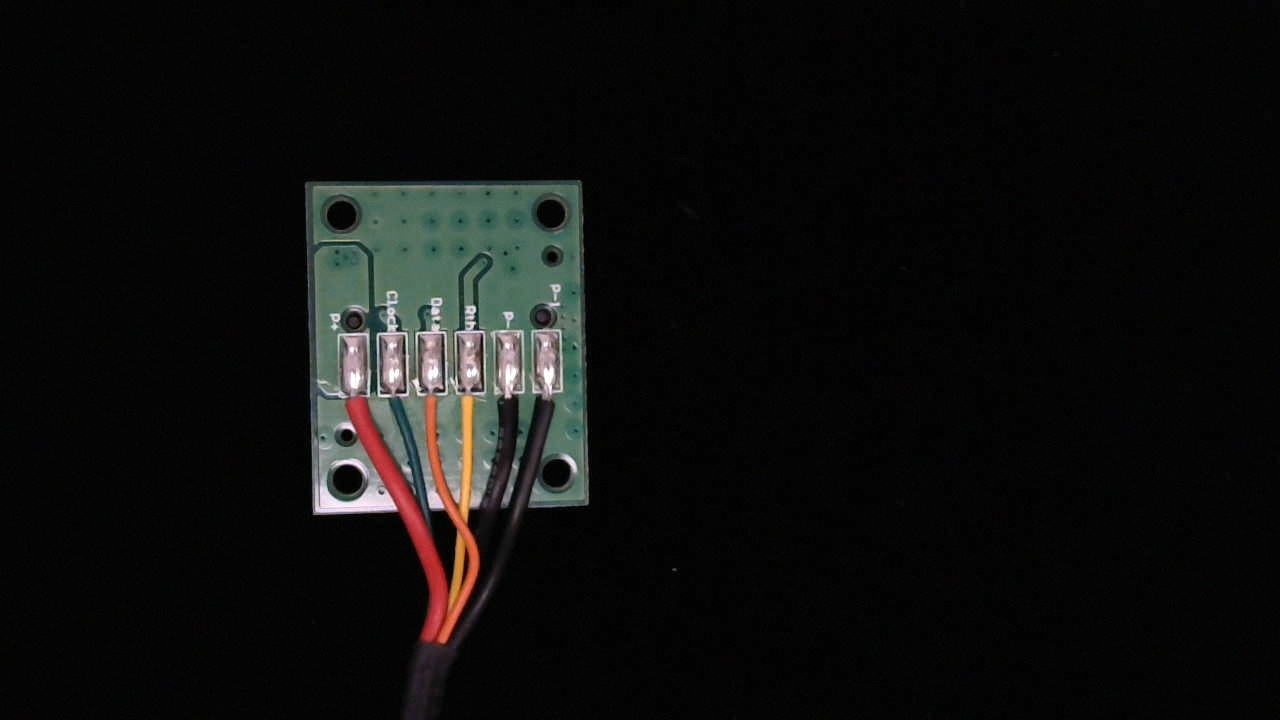Black: (498, 376, 533, 450)
Black1: (540, 378, 573, 446)
Green: (383, 377, 416, 434)
Orange: (422, 378, 455, 442)
Red: (344, 373, 379, 445)
Yellow: (458, 378, 493, 453)
